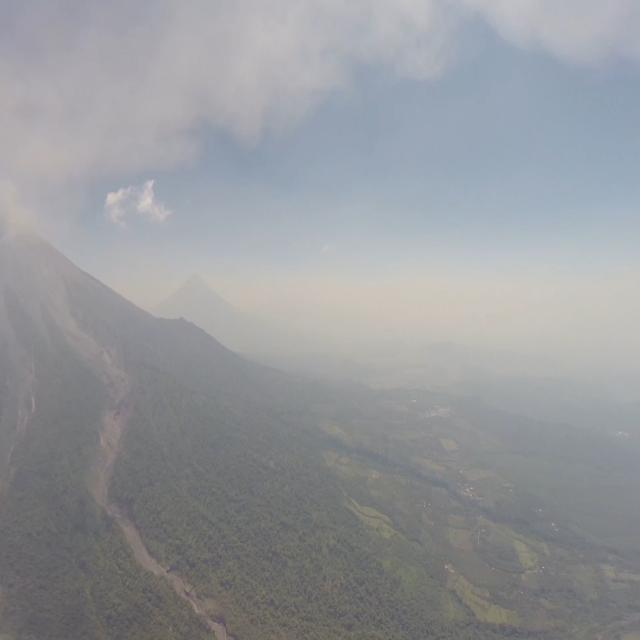Plume: (0, 0, 640, 177), (0, 161, 55, 239)
